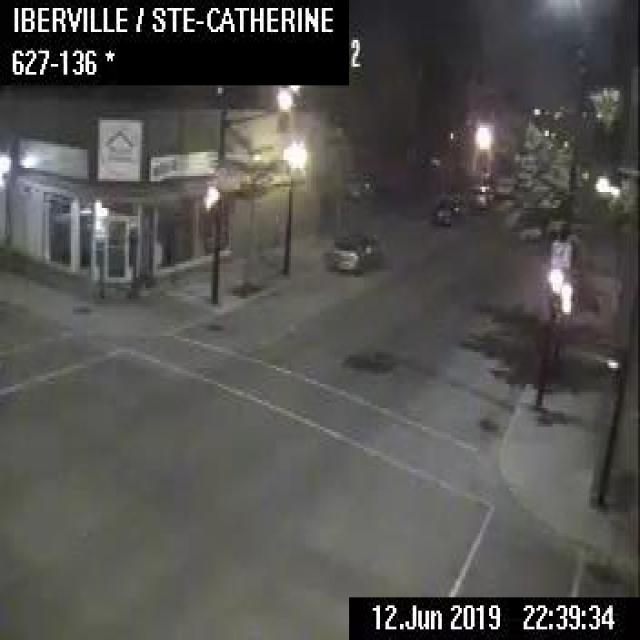vehicle: (332, 229, 382, 272), (429, 190, 463, 224), (466, 181, 494, 208)
